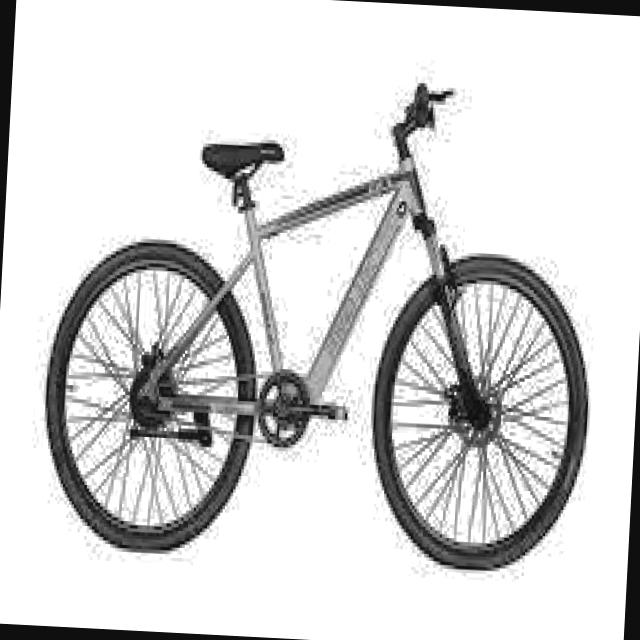bicycle: (34, 52, 610, 580)
